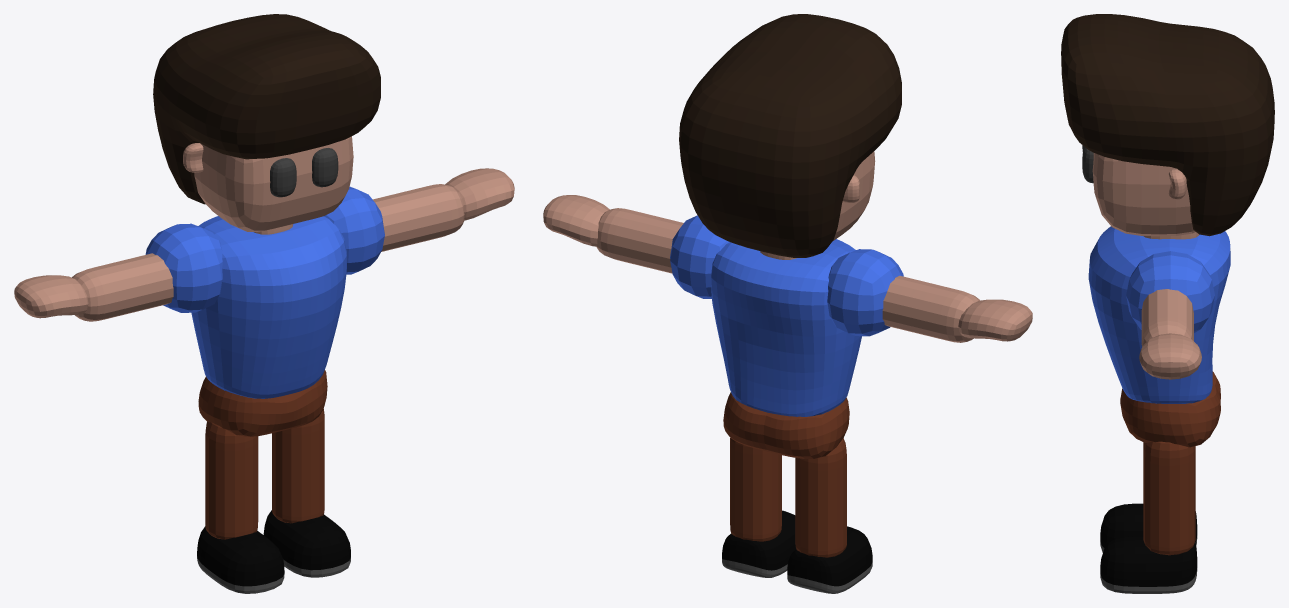
Rendered from Jogador.fbx.
The picture shows the model from 3 angles, left to right: view 1: azimuth 30°, elevation 25°; view 2: azimuth 150°, elevation 25°; view 3: azimuth 270°, elevation 25°; orthographic projection. The views are drawn at different scales.
Visible parts, largest first — view 1: Cube; view 2: Cube; view 3: Cube.
Part boxes in pixels (bbox=[...]): Cube: bbox=[14, 14, 514, 593]; Cube: bbox=[543, 14, 1032, 593]; Cube: bbox=[1061, 14, 1274, 593].
Size of the model in its own units: 264 by 279 by 101.
